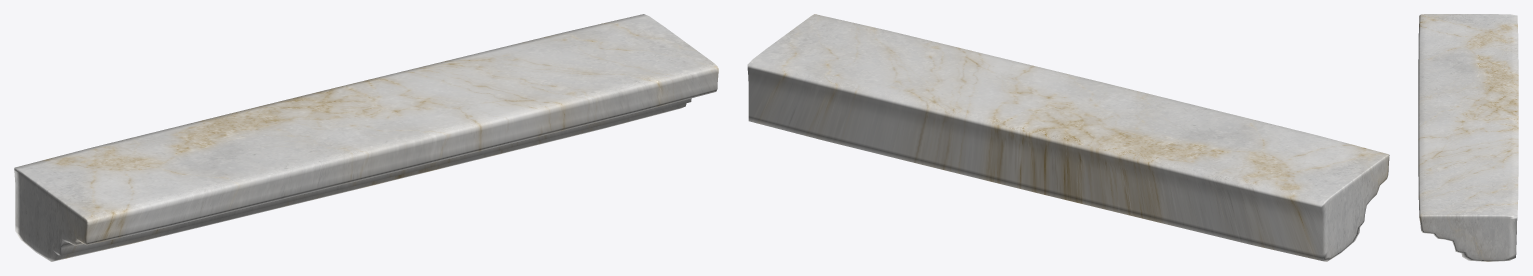
File: Renai_PorchTopLevel.fbx
3 views of the same model, side by side, from view 1: azimuth 30°, elevation 25°; view 2: azimuth 150°, elevation 25°; view 3: azimuth 270°, elevation 25° (orthographic). The views are drawn at different scales.
Visible parts, largest first — view 1: PorchTopLevel; view 2: PorchTopLevel; view 3: PorchTopLevel.
Part boxes in pixels (box(x1,y1,x2,y2)): PorchTopLevel: box(14, 14, 718, 261); PorchTopLevel: box(747, 14, 1389, 261); PorchTopLevel: box(1418, 14, 1518, 261).
Size of the model in its own units: 13.93 by 1.57 by 2.93.
Materials: 1 (1 with a texture image).
